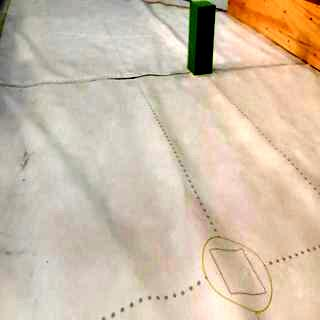greenbox: (186, 2, 217, 75)
